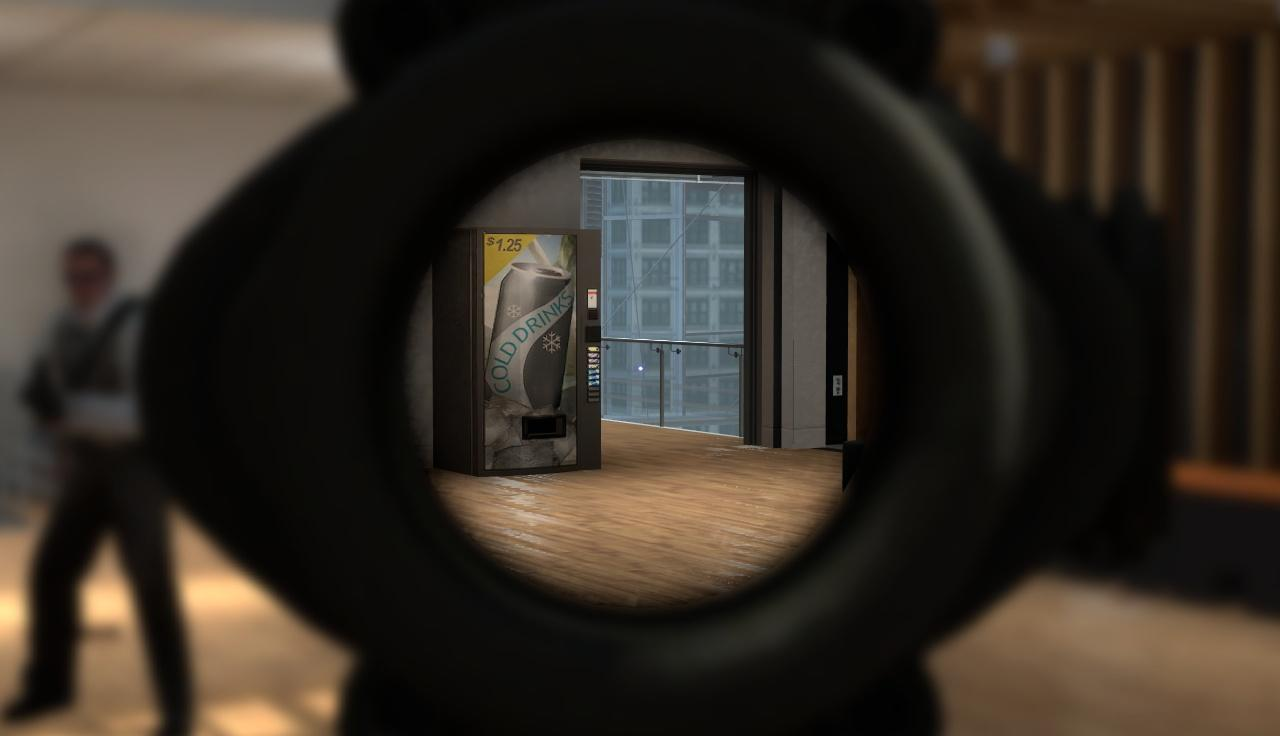tt: (25, 237, 154, 638)
tthead: (61, 240, 116, 314)
